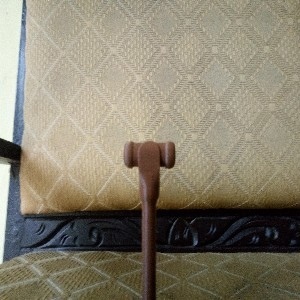palu: (123, 140, 176, 300)
